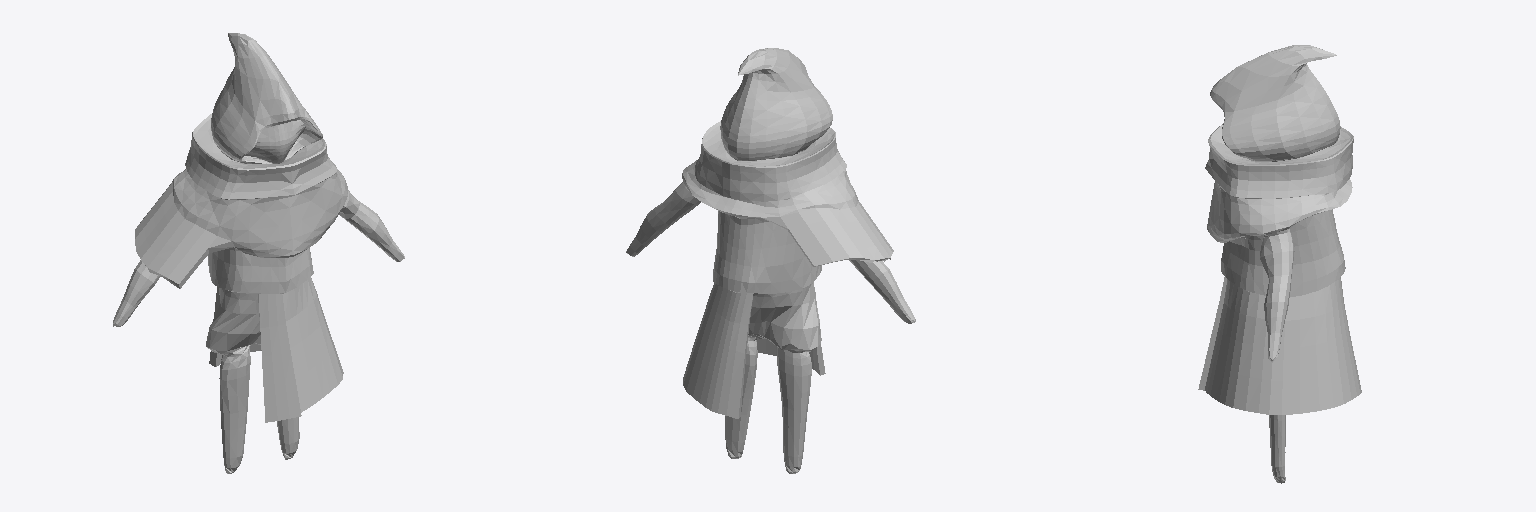
The model's file is Character2PostBones.obj.
3 views of the same model, side by side, from view 1: azimuth 30°, elevation 25°; view 2: azimuth 150°, elevation 25°; view 3: azimuth 270°, elevation 25° (orthographic).
Visible parts, largest first — view 1: Cube; view 2: Cube; view 3: Cube.
Boxes of the visible parts, box(x1,y1,x2,y2) form: Cube: box(113, 33, 404, 473); Cube: box(626, 48, 915, 473); Cube: box(1198, 45, 1361, 483).
Size of the model in its own units: 5.17 by 7.16 by 2.52.